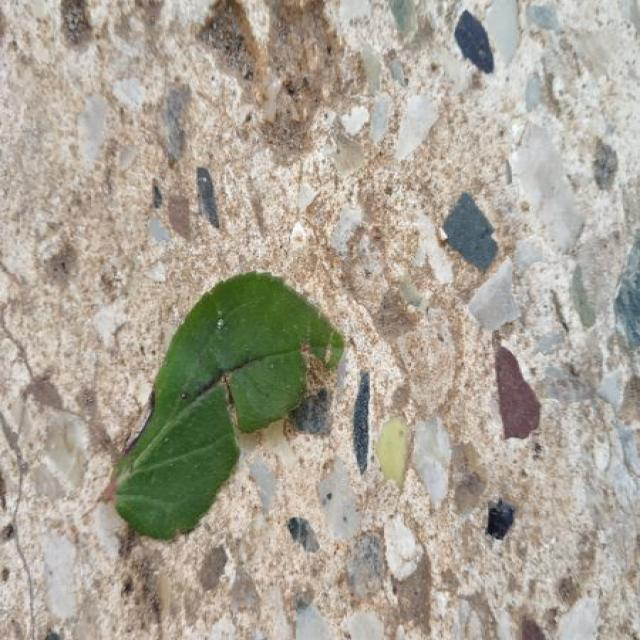defectetedAstma_weed: (113, 274, 343, 539)
disease in leaf: (113, 272, 343, 539), (115, 272, 342, 539)
